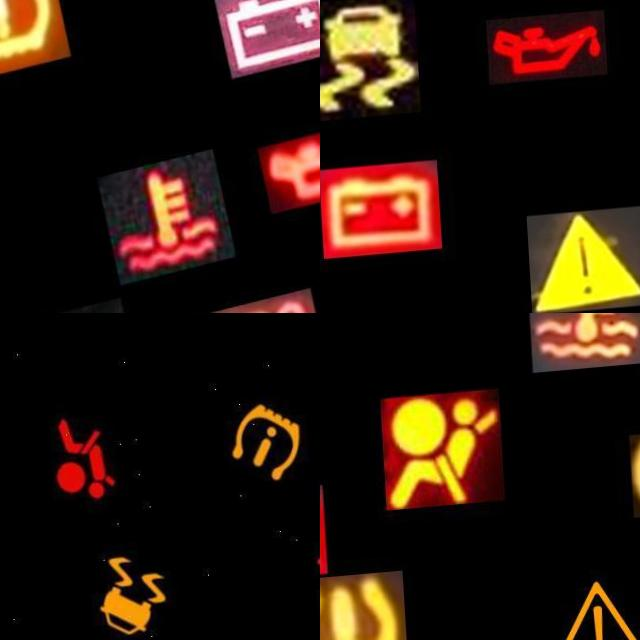Central Warning lamp: (522, 213, 640, 313), (530, 567, 640, 640)
Engine cooling system: (93, 154, 233, 292), (524, 313, 640, 379)
